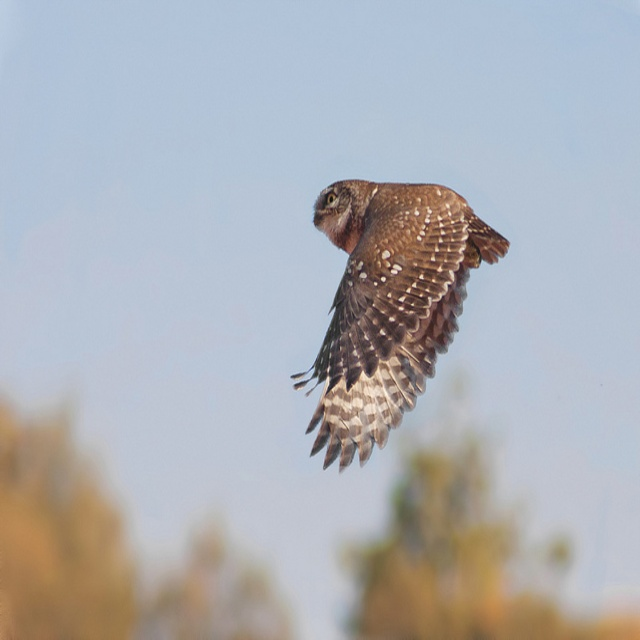Owl: (290, 174, 508, 482)
